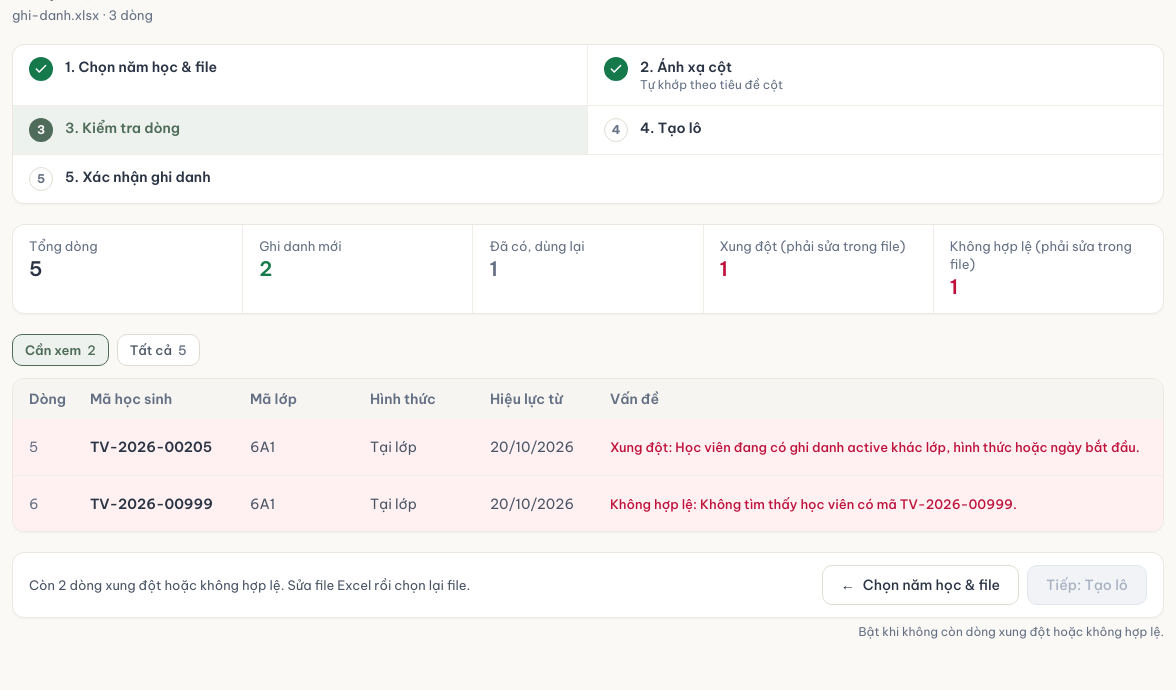
it: EnrollmentImportPage wizard › replaces the status select with review chips and words for every classification
Expected: the list item "3 3. Kiểm tra dòng" is shown, x1=13 y1=105 x2=588 y2=154
Expected: the button named "Cần xem2" is shown, x1=12 y1=334 x2=109 y2=366
Click the button named "Tất cả5" at (158, 350), box x1=117 y1=334 x2=200 y2=366
(page scrolled)
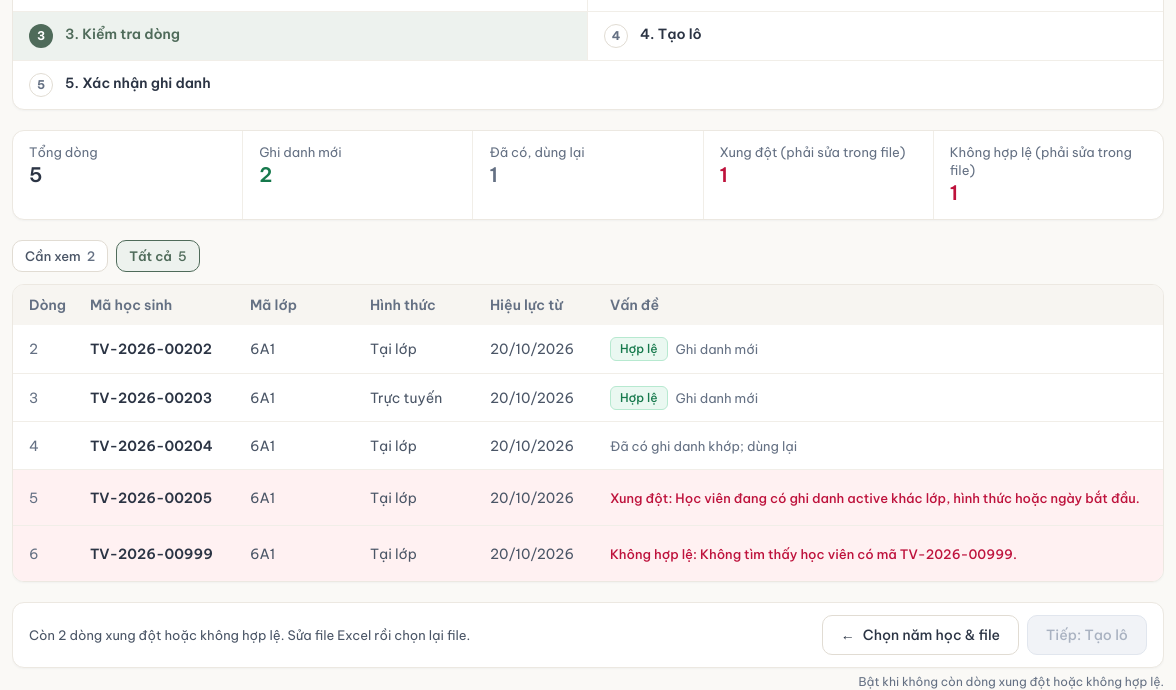
Now the row "2 TV-2026-00202 6A1 Tại lớp 20/10/2026 Hợp lệ Ghi danh mới" is shown, box x1=13 y1=325 x2=1163 y2=373
Now the row that starts with "TV-2026-00203" shows "Trực tuyến", box x1=370 y1=388 x2=442 y2=406
Now the row that starts with "TV-2026-00204" shows "Đã có ghi danh khớp; dùng lại", box x1=610 y1=438 x2=797 y2=454
